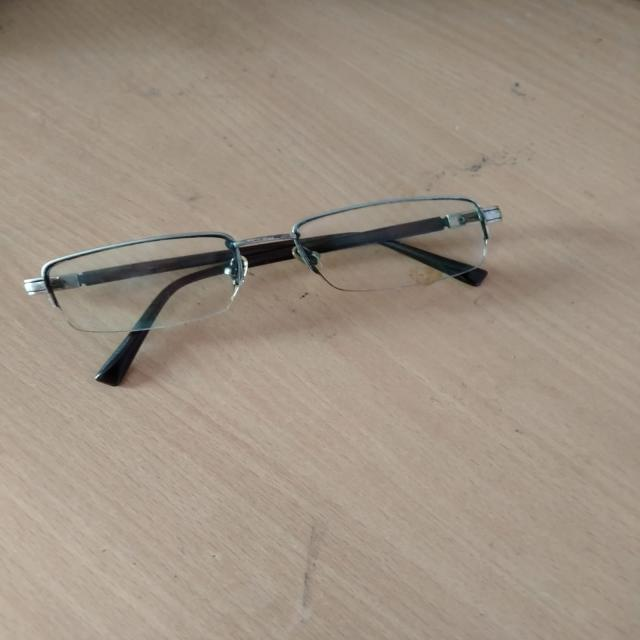Glasses: (25, 187, 547, 391)
